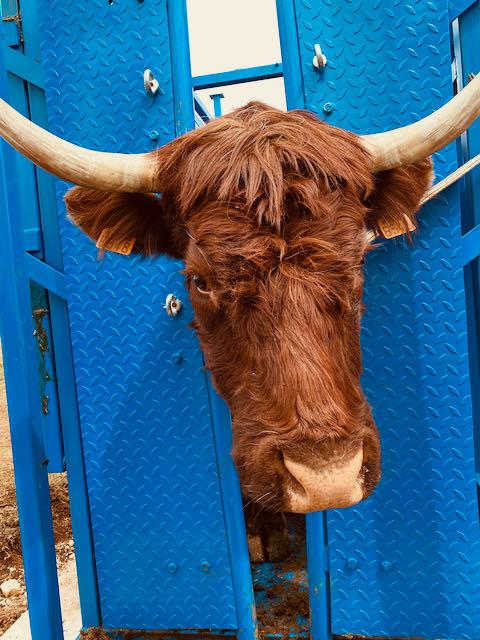muzzles: (229, 444, 397, 513)
